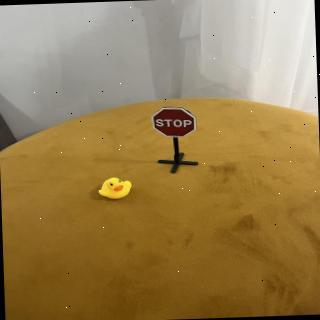duck_regular: (98, 175, 135, 203)
sign_stop: (152, 106, 199, 142)
